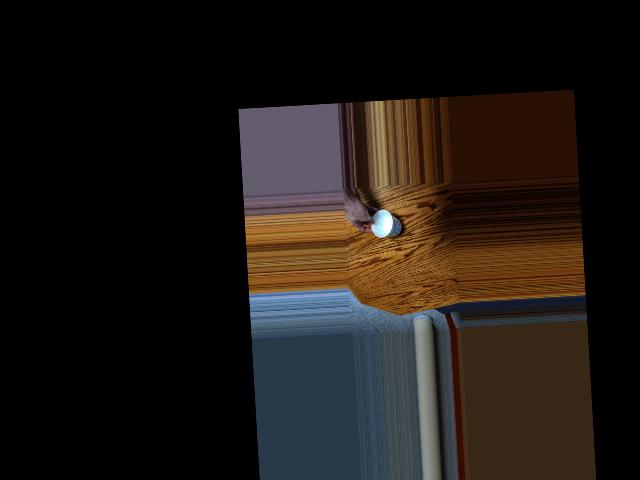cotage: (368, 210, 400, 237)
